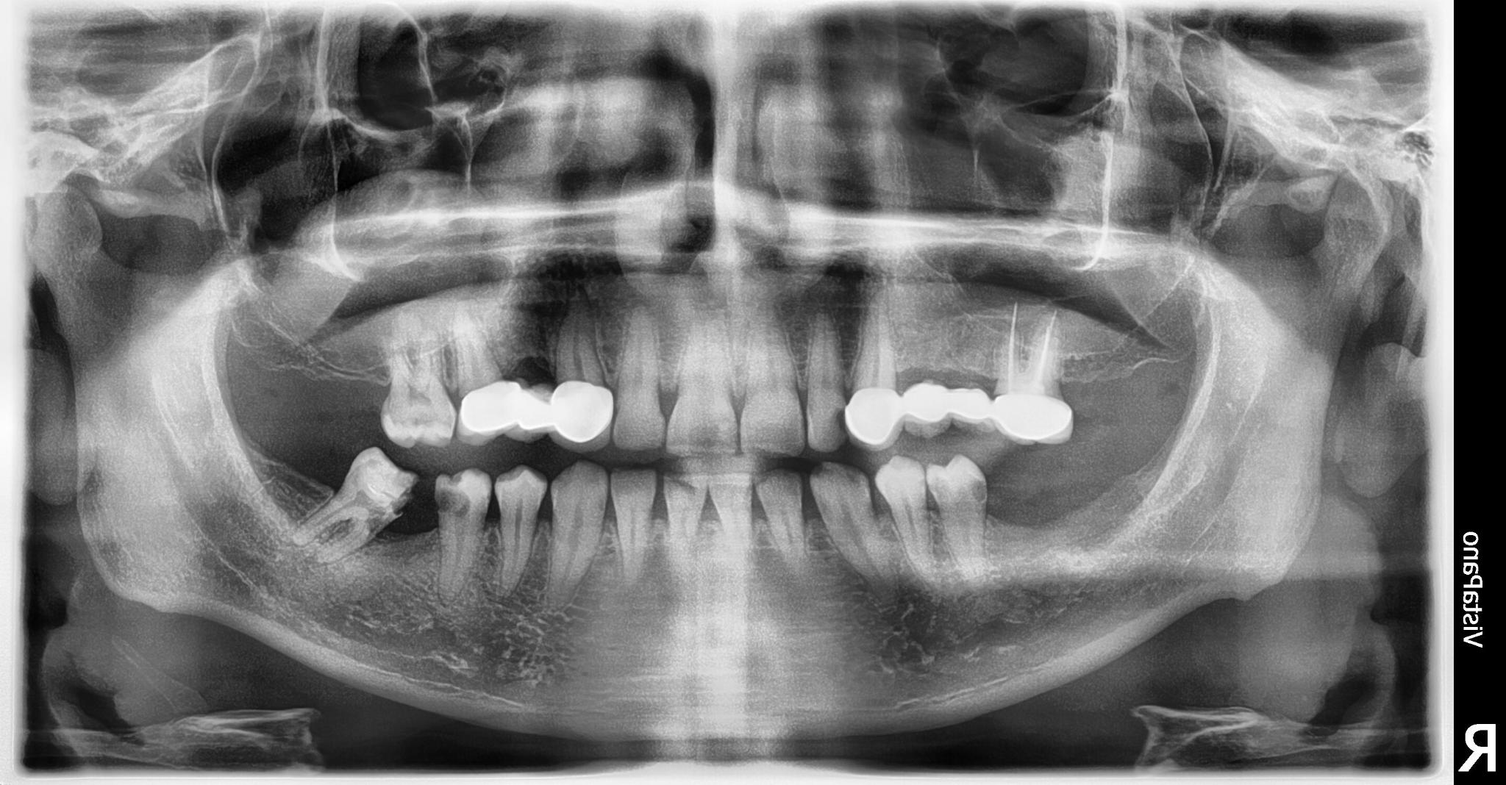Premolars: (507, 228, 1457, 674), (462, 216, 1335, 682), (448, 238, 1293, 693), (410, 111, 1213, 509), (319, 234, 901, 690), (255, 223, 686, 695), (193, 207, 528, 681), (228, 225, 675, 552)
